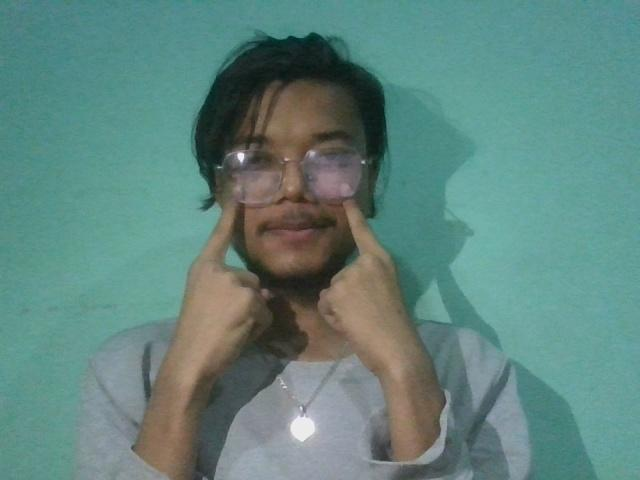Cry: (160, 177, 452, 406)
